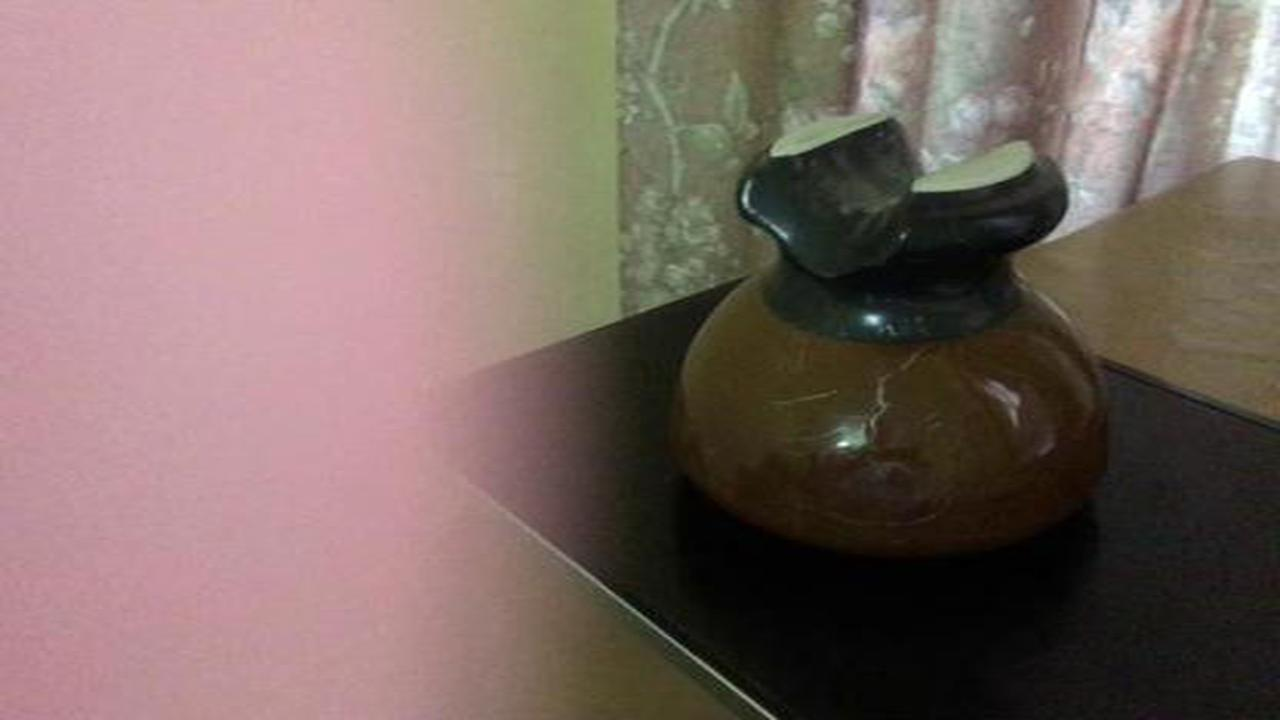insulator_pin: (647, 103, 1124, 575)
